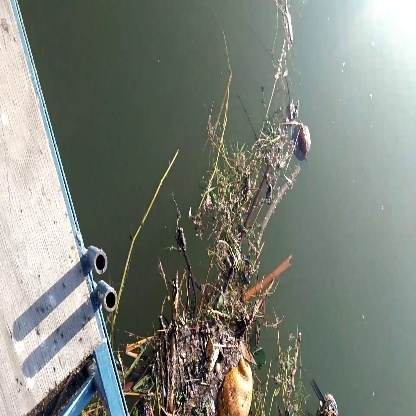branch: (245, 246, 293, 309)
